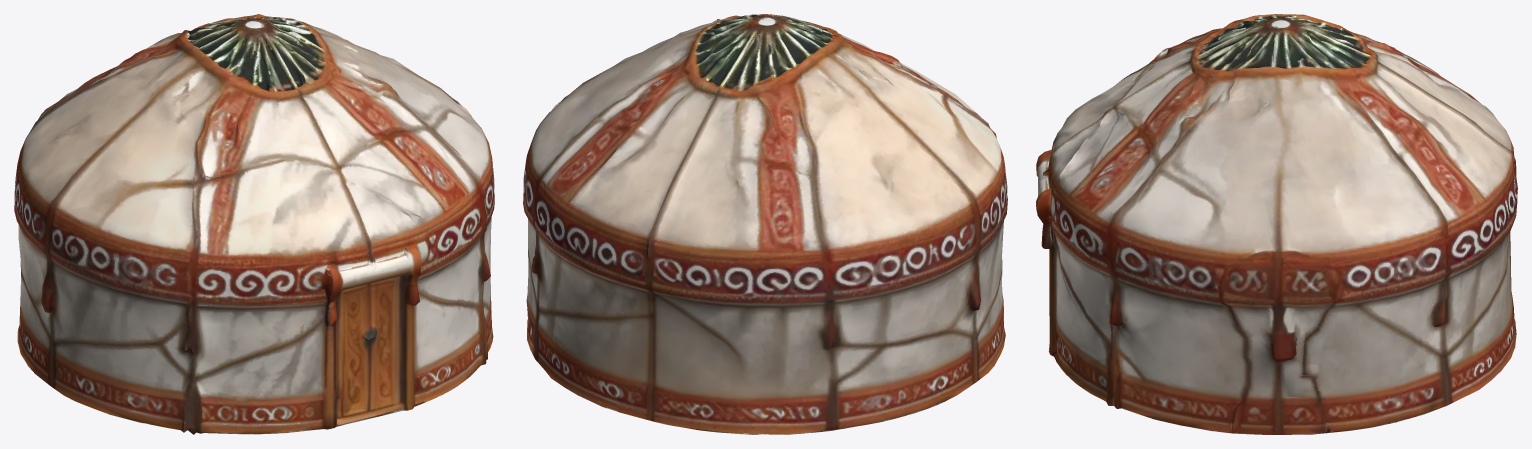
Rendered from yurt.glb.
3 renders of one model, left to right at view 1: azimuth 30°, elevation 25°; view 2: azimuth 150°, elevation 25°; view 3: azimuth 270°, elevation 25°, orthographic.
Parts seen in each view (by area): view 1: yurt.raw; view 2: yurt.raw; view 3: yurt.raw.
Boxes of the visible parts, x1,y1,x2,y2 form: yurt.raw: [14, 14, 494, 434]; yurt.raw: [523, 14, 1007, 434]; yurt.raw: [1036, 14, 1517, 434].
Size of the model in its own units: 4.52 by 3.2 by 4.46.
1 material, 1 textured.
